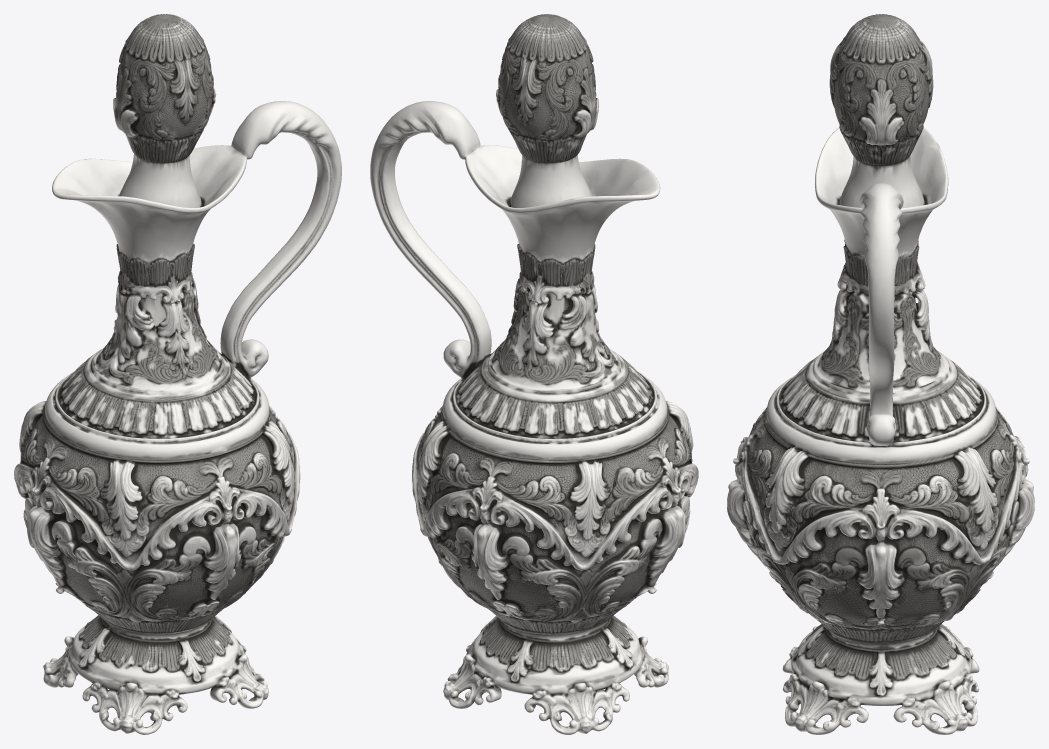
Rendered from ewer-4k.glb.
The picture shows the model from 3 angles, left to right: view 1: azimuth 30°, elevation 25°; view 2: azimuth 150°, elevation 25°; view 3: azimuth 270°, elevation 25°; orthographic projection. The views are drawn at different scales.
Parts seen in each view (by area): view 1: Ewer; view 2: Ewer; view 3: Ewer.
Part boxes in pixels (bbox=[...]): Ewer: bbox=[14, 14, 341, 734]; Ewer: bbox=[370, 14, 698, 734]; Ewer: bbox=[727, 14, 1034, 734].
Bounding box in the file's own units: 0.9215 × 1.9 × 0.7742.
1 material, 1 textured.
